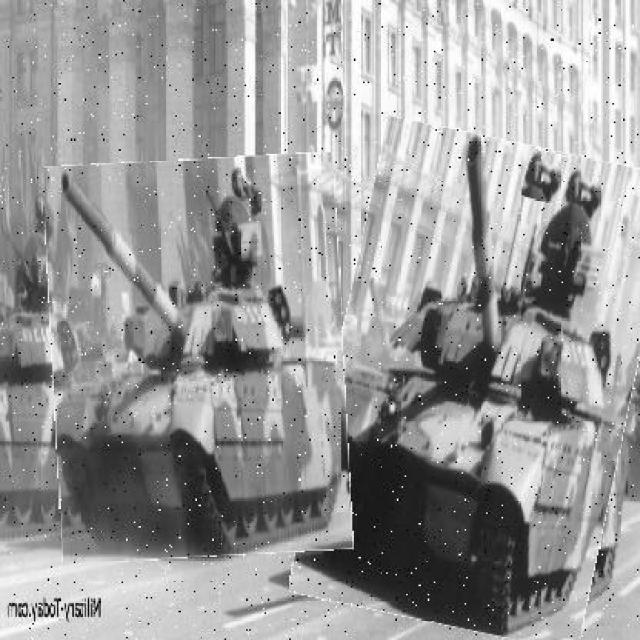Person: (523, 152, 566, 204), (239, 167, 275, 227)
Tank: (312, 129, 640, 640), (49, 158, 349, 561)
